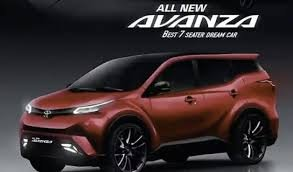mobil: (12, 53, 280, 168)
